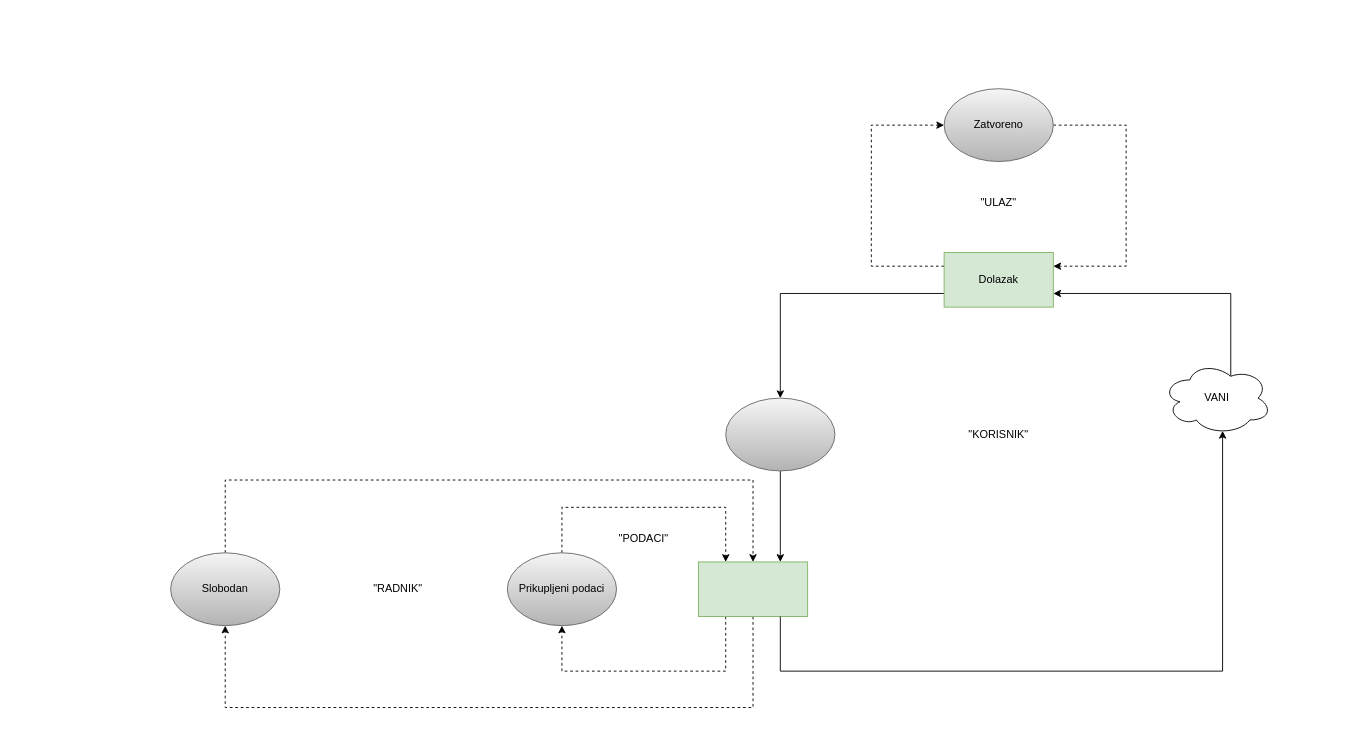
This 1360x750 diagram has some shape labels left out. Here are the shapes that lost their labels. From the top down, the box of each, then its label:
(725, 397, 835, 471): Čekanje
(698, 561, 808, 617): Prikupljanje podataka
